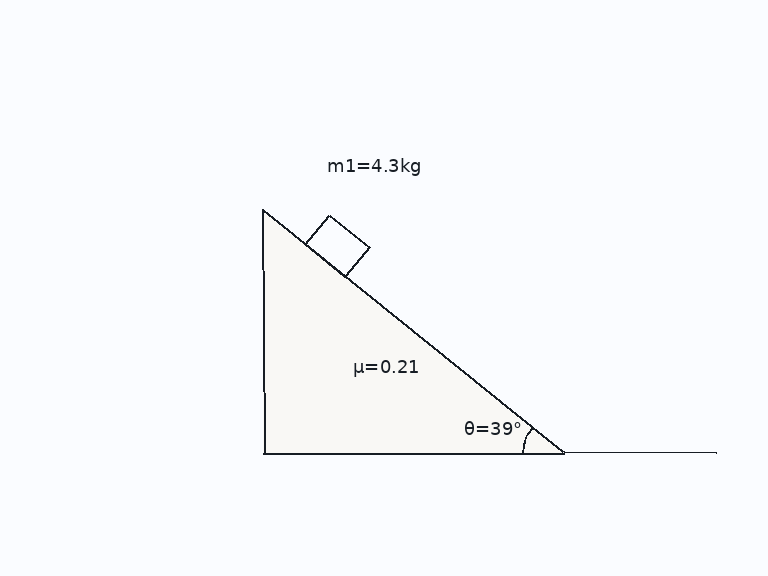block: (303, 213, 371, 279)
ramp: (261, 208, 565, 455)
